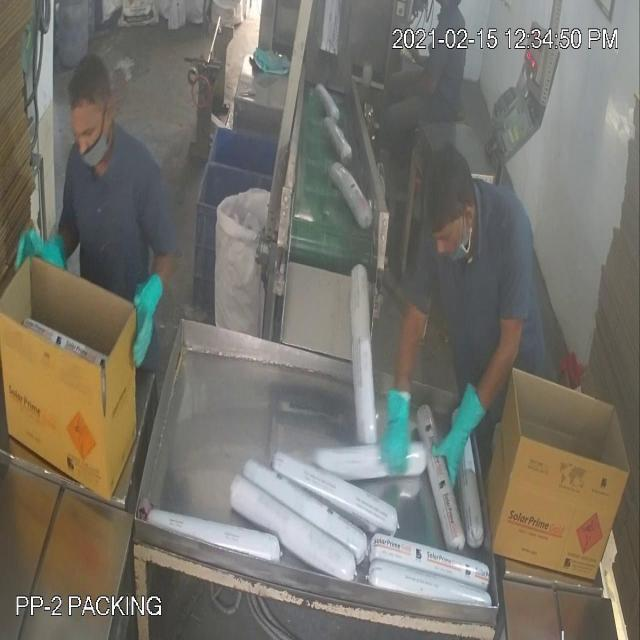Gloves: (45, 39, 462, 430)
